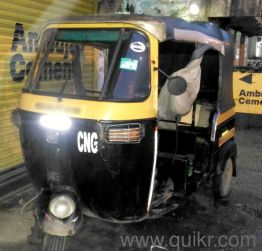auto: (10, 16, 240, 251)
